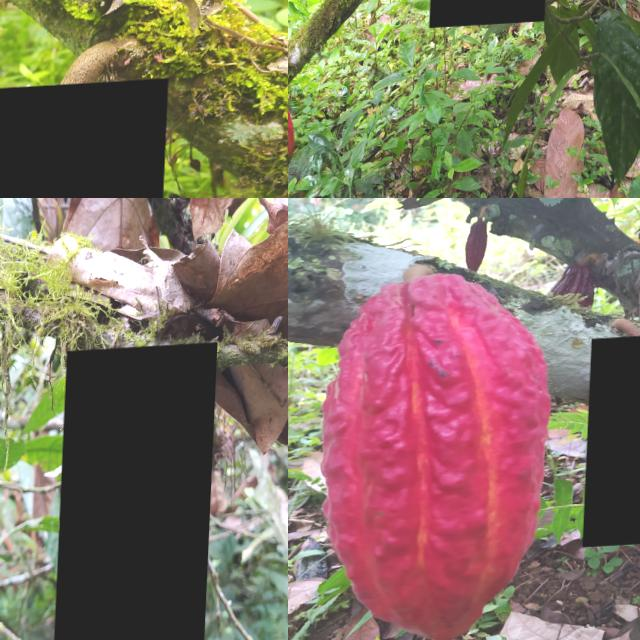Fitoftora: (57, 347, 219, 640), (0, 83, 170, 198)
Monilia: (587, 336, 640, 551)
Sana: (313, 267, 559, 640), (465, 221, 489, 276), (288, 88, 301, 169)
